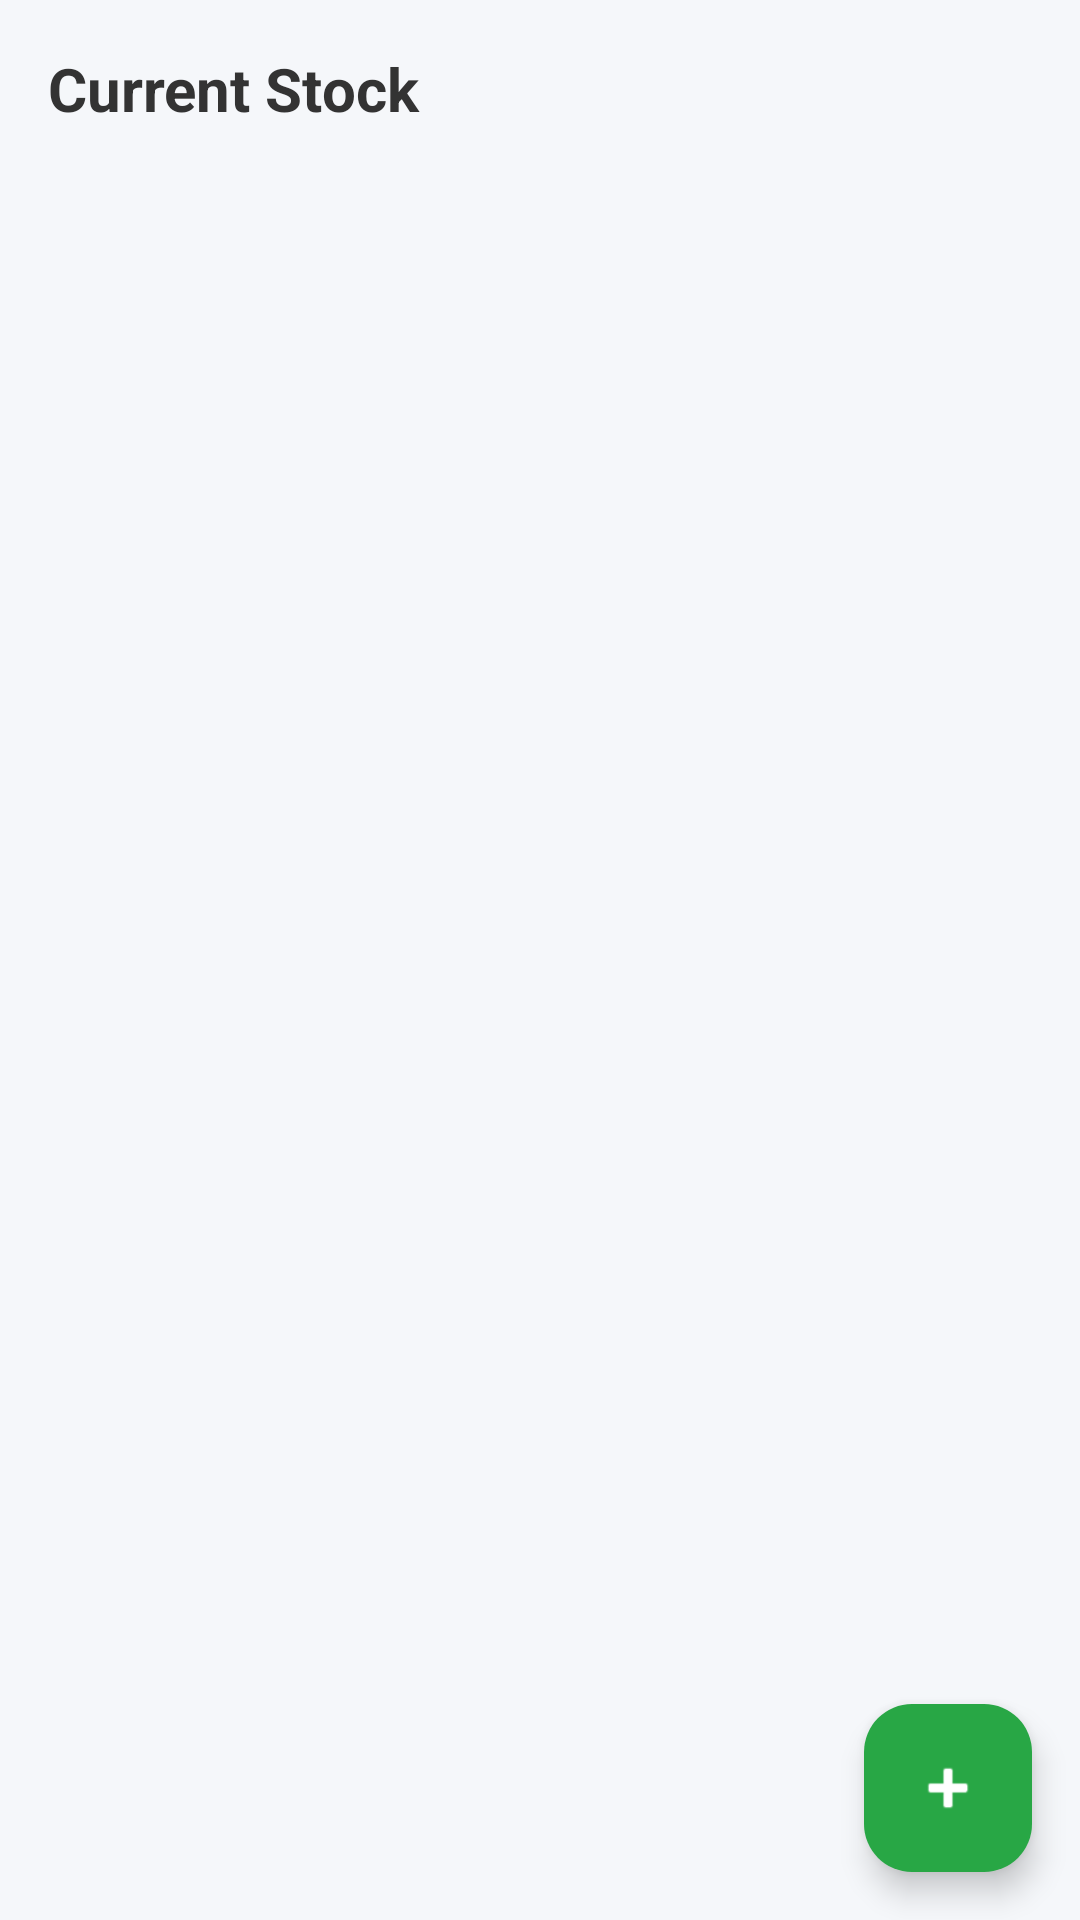

Point at icon controls on the screen. Image size 1080w x 1920h, points as (x=x, y=y).
Add New Item: (x=948, y=1788)
